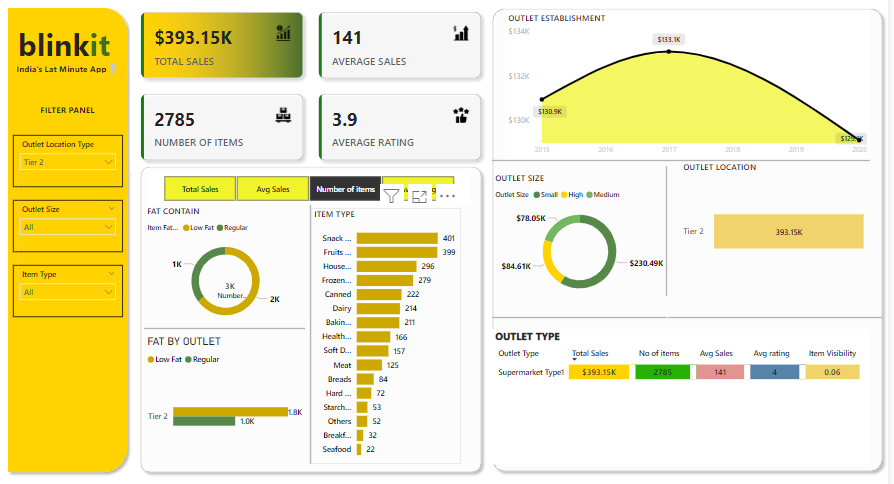

What the dashboard file says about the page in this screenshot:
{"tool":"powerbi","page":{"name":"Page 1","canvas":[1400,800],"ordinal":0},"visuals":[{"type":"shape","box":[4.7,26.8,206.3,749.6],"z":0},{"type":"textbox","box":[420.5,102.4,204.7,80.3],"z":1000},{"type":"textbox","box":[253.5,645.7,204.7,130.7],"z":2000},{"type":"textbox","box":[420.5,489.8,204.7,155.9],"z":3000},{"type":"textbox","box":[15.7,55.1,173.2,75.6],"z":4000},{"type":"textbox","box":[15.7,118.1,173.2,25.2],"z":5000},{"type":"cardVisual","fields":{"Data":["BlinkIT Grocery Data.Total Sales","BlinkIT Grocery Data.Avg Sales","BlinkIT Grocery Data.Number of items","BlinkIT Grocery Data.Avg rating"]},"box":[206.3,25.2,570.1,269.3],"z":6000},{"type":"shape","box":[214.2,277.2,554.3,499.2],"z":7000},{"type":"donutChart","title":"FAT CONTAIN","fields":{"Y":["BlinkIT Grocery Data.Number of items"],"Category":["BlinkIT Grocery Data.Item Fat Content"]},"box":[228.3,346.5,256.7,195.3],"z":8000},{"type":"slicer","fields":{"Values":["Metrix.Metrix"]},"box":[234.6,294.5,505.5,52],"z":9000},{"type":"cardVisual","fields":{"Data":["BlinkIT Grocery Data.Number of items"]},"box":[321.3,447.2,85,53.5],"z":10000},{"type":"clusteredBarChart","title":"FAT BY OUTLET","fields":{"Y":["BlinkIT Grocery Data.Number of items"],"Category":["BlinkIT Grocery Data.Outlet Location Type"],"Series":["BlinkIT Grocery Data.Item Fat Content"]},"box":[228.3,551.2,253.5,203.1],"z":11000},{"type":"shape","box":[228.3,518.1,253.5,45.7],"z":12000},{"type":"shape","box":[363.8,346.5,253.5,407.9],"z":13000},{"type":"barChart","title":"ITEM TYPE","fields":{"Y":["BlinkIT Grocery Data.Number of items"],"Category":["BlinkIT Grocery Data.Item Type"]},"box":[491.3,351.2,236.2,403.1],"z":14000},{"type":"shape","box":[768.5,28.3,631.5,746.5],"z":15000},{"type":"lineChart","title":"OUTLET ESTABLISHMENT","fields":{"Y":["BlinkIT Grocery Data.Total Sales"],"Category":["BlinkIT Grocery Data.Outlet Establishment Year"]},"box":[796.9,42.5,574.8,234.6],"z":16000},{"type":"shape","box":[776.4,253.5,595.3,45.7],"z":17000},{"type":"donutChart","title":"OUTLET SIZE","fields":{"Y":["BlinkIT Grocery Data.Total Sales"],"Category":["BlinkIT Grocery Data.Outlet Size"]},"box":[776.4,294.5,275.6,206.3],"z":18000},{"type":"shape","box":[924.4,285,253.5,204.7],"z":19000},{"type":"funnel","title":"OUTLET LOCATION","fields":{"Category":["BlinkIT Grocery Data.Outlet Location Type"],"Y":["Sum(BlinkIT Grocery Data.Sales)"]},"box":[1072.4,277.2,299.2,204.7],"z":20000},{"type":"shape","box":[776.4,500.8,275.6,45.7],"z":21000},{"type":"shape","box":[1053.5,503.9,337,45.7],"z":22000},{"type":"pivotTable","title":"OUTLET TYPE","fields":{"Rows":["BlinkIT Grocery Data.Outlet Type"],"Values":["BlinkIT Grocery Data.Total Sales","BlinkIT Grocery Data.Number of items","BlinkIT Grocery Data.Avg Sales","BlinkIT Grocery Data.Avg rating","Avg(BlinkIT Grocery Data.Item Visibility)"]},"box":[776.4,541.7,595.3,212.6],"z":23000},{"type":"slicer","fields":{"Values":["BlinkIT Grocery Data.Outlet Location Type"]},"box":[22,236.2,173.2,81.9],"z":24000},{"type":"slicer","fields":{"Values":["BlinkIT Grocery Data.Item Type"]},"box":[22,440.9,173.2,81.9],"z":25000},{"type":"slicer","fields":{"Values":["BlinkIT Grocery Data.Outlet Size"]},"box":[22,338.6,173.2,81.9],"z":26000},{"type":"textbox","box":[15.7,182.7,184.3,48.8],"z":26001}]}

Visuals, with their boxes on the page's 1400x800 design canvas (x1, y1, x2, y2). These are canvas units, not pixel positions in the 894x484 screenshot, which may show the page scaled, cropped or inside an application window:
shape: left=5, top=27, right=211, bottom=776
textbox: left=420, top=102, right=625, bottom=183
textbox: left=254, top=646, right=458, bottom=776
textbox: left=420, top=490, right=625, bottom=646
textbox: left=16, top=55, right=189, bottom=131
textbox: left=16, top=118, right=189, bottom=143
cardVisual - BlinkIT Grocery Data.Total Sales x BlinkIT Grocery Data.Avg Sales: left=206, top=25, right=776, bottom=294
shape: left=214, top=277, right=768, bottom=776
"FAT CONTAIN" donutChart: left=228, top=346, right=485, bottom=542
slicer - Metrix.Metrix: left=235, top=294, right=740, bottom=346
cardVisual - BlinkIT Grocery Data.Number of items: left=321, top=447, right=406, bottom=501
"FAT BY OUTLET" clusteredBarChart: left=228, top=551, right=482, bottom=754
shape: left=228, top=518, right=482, bottom=564
shape: left=364, top=346, right=617, bottom=754
"ITEM TYPE" barChart: left=491, top=351, right=728, bottom=754
shape: left=768, top=28, right=1400, bottom=775
"OUTLET ESTABLISHMENT" lineChart: left=797, top=42, right=1372, bottom=277
shape: left=776, top=254, right=1372, bottom=299
"OUTLET SIZE" donutChart: left=776, top=294, right=1052, bottom=501
shape: left=924, top=285, right=1178, bottom=490
"OUTLET LOCATION" funnel: left=1072, top=277, right=1372, bottom=482
shape: left=776, top=501, right=1052, bottom=546
shape: left=1054, top=504, right=1390, bottom=550
"OUTLET TYPE" pivotTable: left=776, top=542, right=1372, bottom=754
slicer - BlinkIT Grocery Data.Outlet Location Type: left=22, top=236, right=195, bottom=318
slicer - BlinkIT Grocery Data.Item Type: left=22, top=441, right=195, bottom=523
slicer - BlinkIT Grocery Data.Outlet Size: left=22, top=339, right=195, bottom=420
textbox: left=16, top=183, right=200, bottom=232
